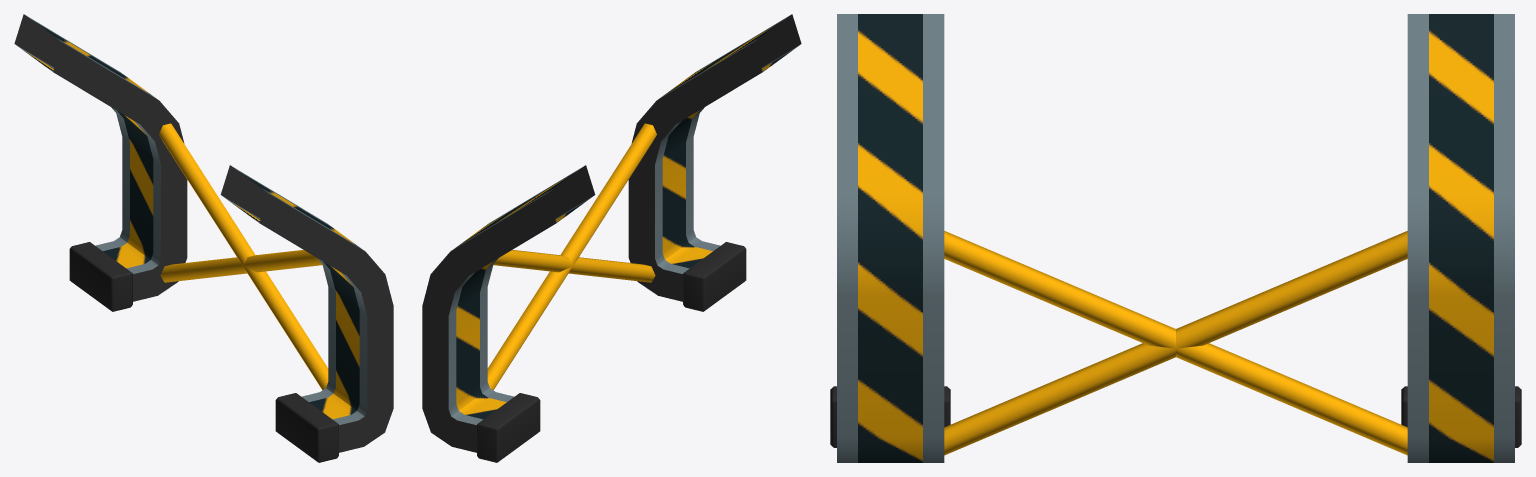
The model's file is Cargo_drone_004_grab_002.fbx.
3 renders of one model, left to right at view 1: azimuth 30°, elevation 25°; view 2: azimuth 150°, elevation 25°; view 3: azimuth 270°, elevation 25°, orthographic. The views are drawn at different scales.
Parts seen in each view (by area): view 1: Cargo_drone_004_grab_002; view 2: Cargo_drone_004_grab_002; view 3: Cargo_drone_004_grab_002.
Boxes of the visible parts, x1,y1,x2,y2 form: Cargo_drone_004_grab_002: [14, 14, 393, 462]; Cargo_drone_004_grab_002: [422, 14, 801, 462]; Cargo_drone_004_grab_002: [830, 14, 1521, 462].
Bounding box in the file's own units: 41.02 × 132 × 82.04.
